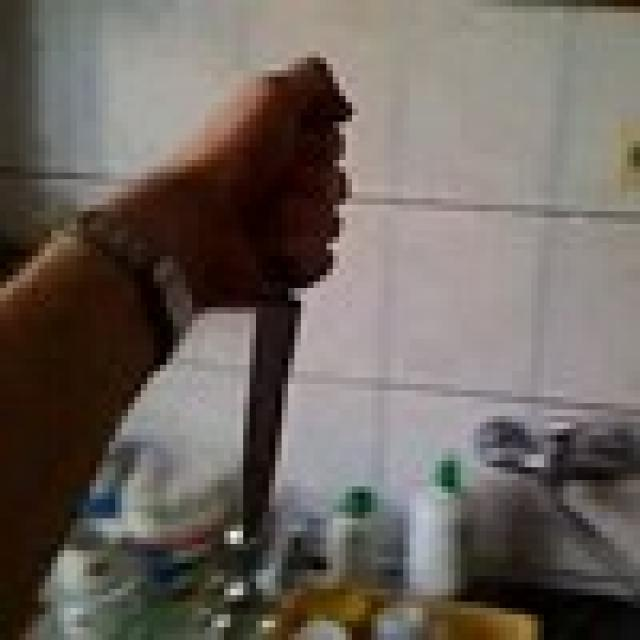Knife: (237, 64, 346, 544)
